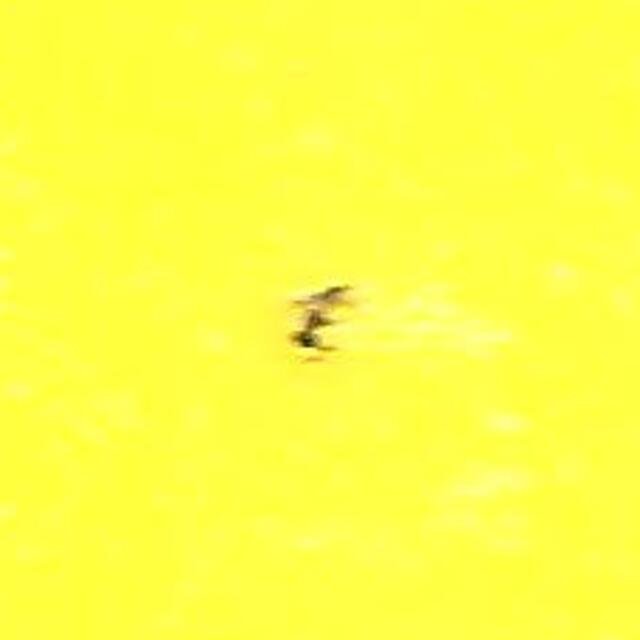Hymenoptera: (281, 274, 359, 366)
